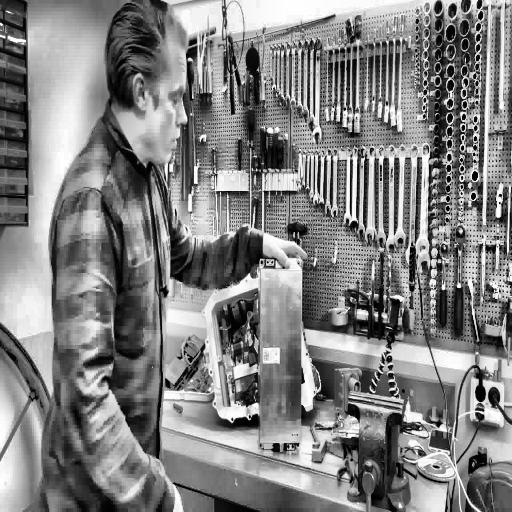battery_module: (258, 257, 302, 453)
